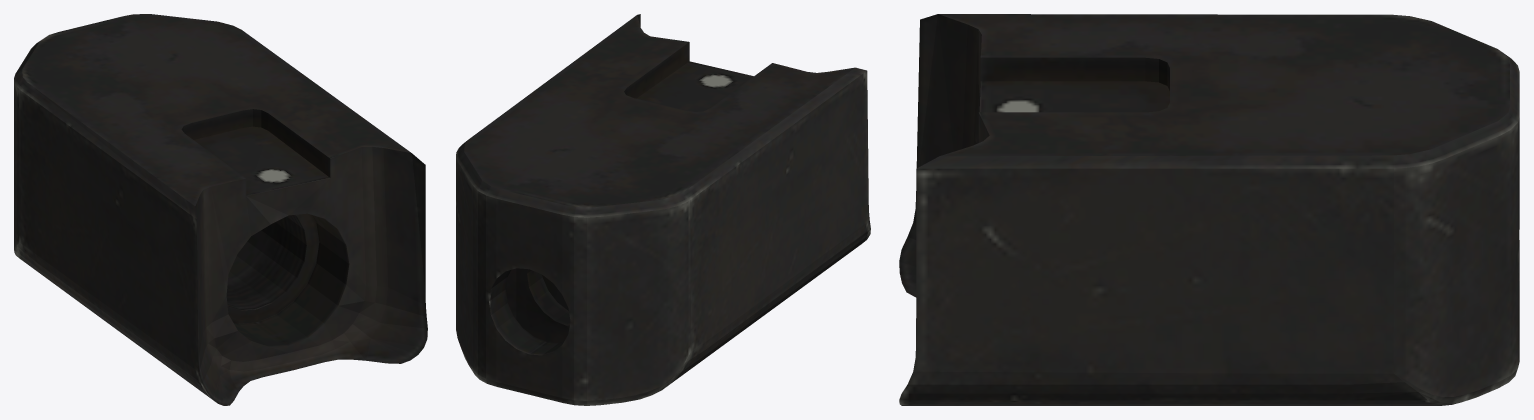
The picture shows the model from 3 angles, left to right: view 1: azimuth 30°, elevation 25°; view 2: azimuth 150°, elevation 25°; view 3: azimuth 270°, elevation 25°; orthographic projection. The views are drawn at different scales.
Visible parts, largest first — view 1: TW_5a705e128dc32e000d46d258_PZ_Import; view 2: TW_5a705e128dc32e000d46d258_PZ_Import; view 3: TW_5a705e128dc32e000d46d258_PZ_Import.
Boxes of the visible parts, x1,y1,x2,y2 form: TW_5a705e128dc32e000d46d258_PZ_Import: (14, 14, 427, 405); TW_5a705e128dc32e000d46d258_PZ_Import: (456, 14, 870, 405); TW_5a705e128dc32e000d46d258_PZ_Import: (899, 14, 1519, 405).
Size of the model in its own units: 0.0144 by 0.0254 by 0.0119.
Materials: 1 (1 with a texture image).
